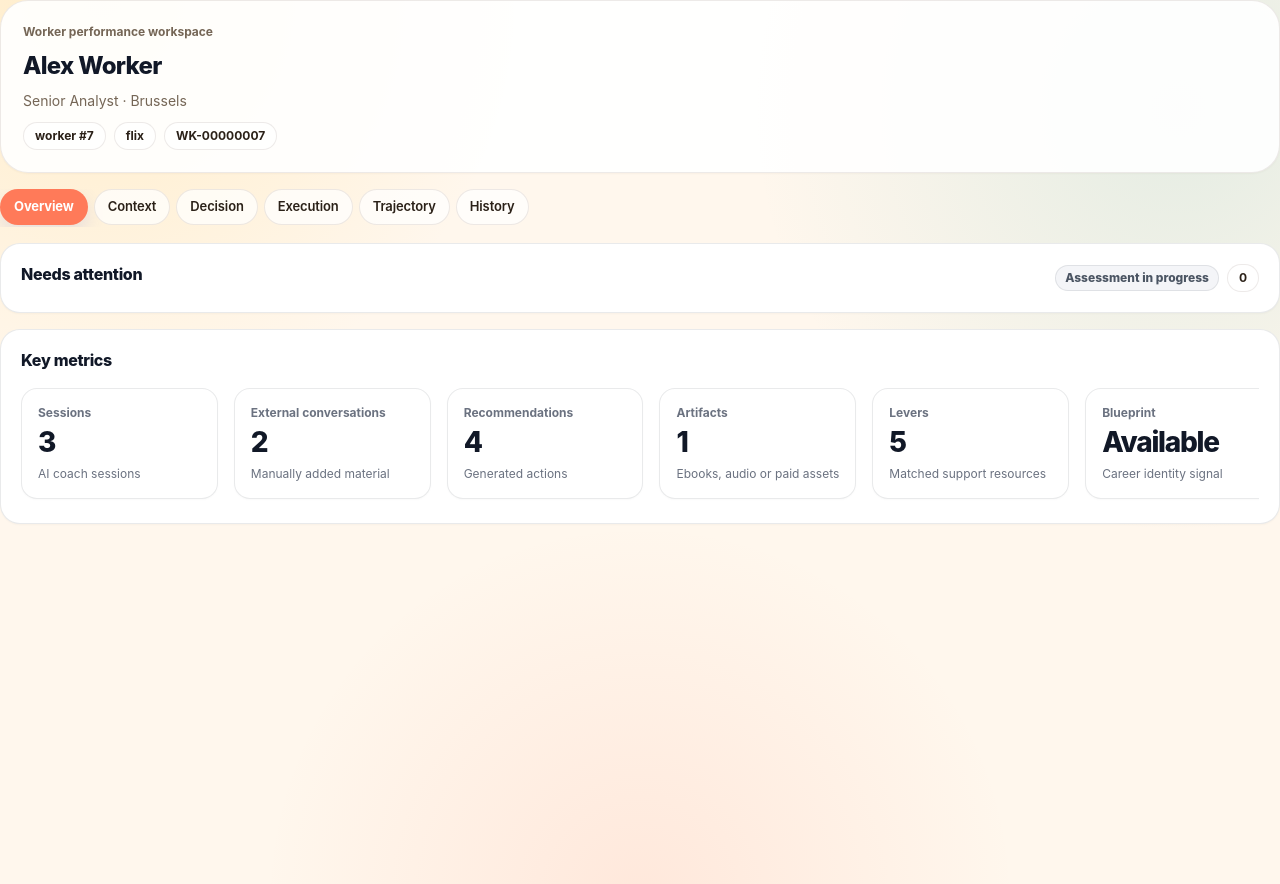
Scenario: Organization Insights internationalization › switches the worker intelligence workspace immediately to English
Check: the text "External conversations" is shown, box [251, 405, 386, 420]
Click the tab "Context" at (132, 207), box [94, 189, 170, 225]
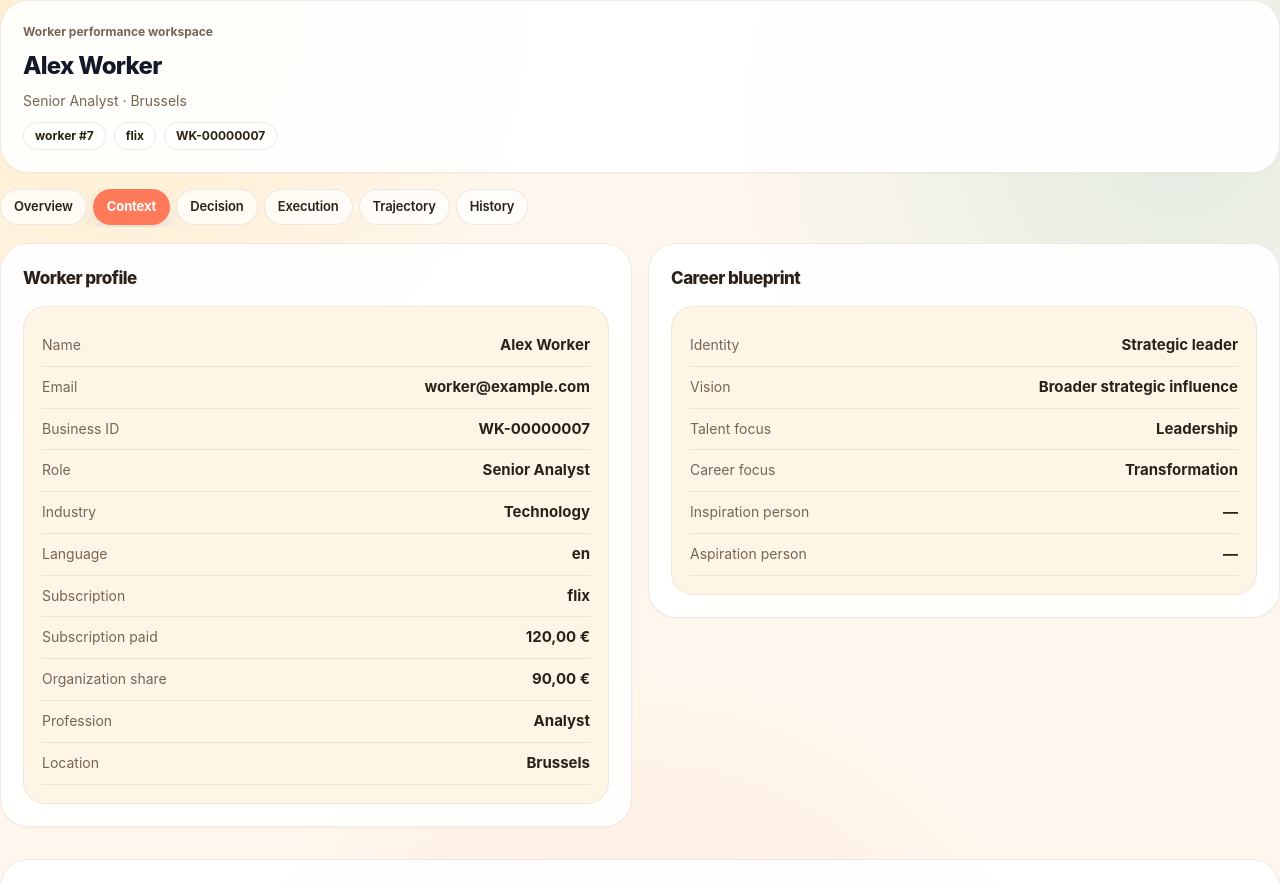
Check: the text "Worker performance workspace" is shown, box [23, 24, 213, 39]
Check: the text "Worker profile" is shown, box [23, 268, 137, 288]
Check: the text "Career blueprint" is shown, box [671, 268, 800, 288]
Click the tab "Trajectory" at (404, 207), box [359, 189, 450, 225]
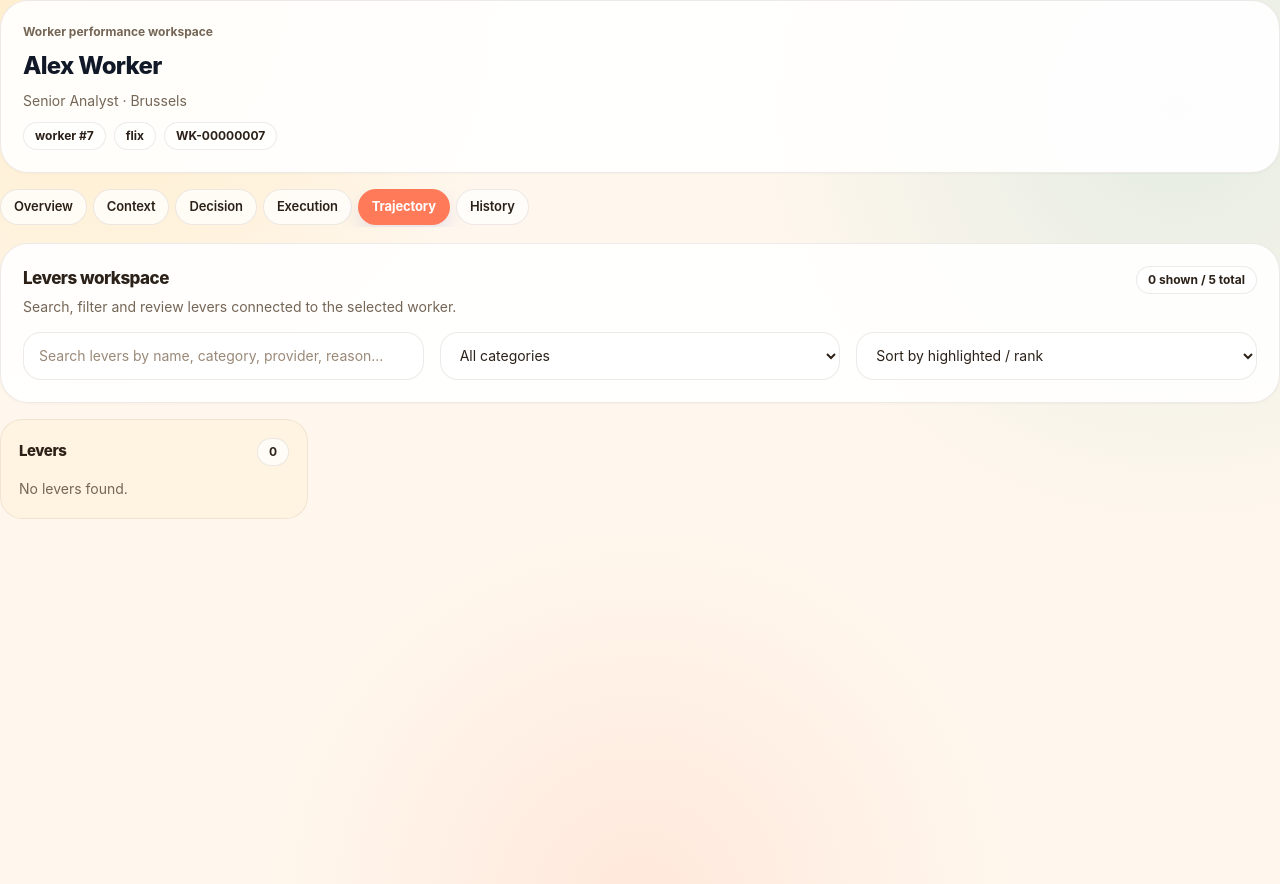
Check: the text "Levers workspace" is shown, box [23, 268, 169, 288]
